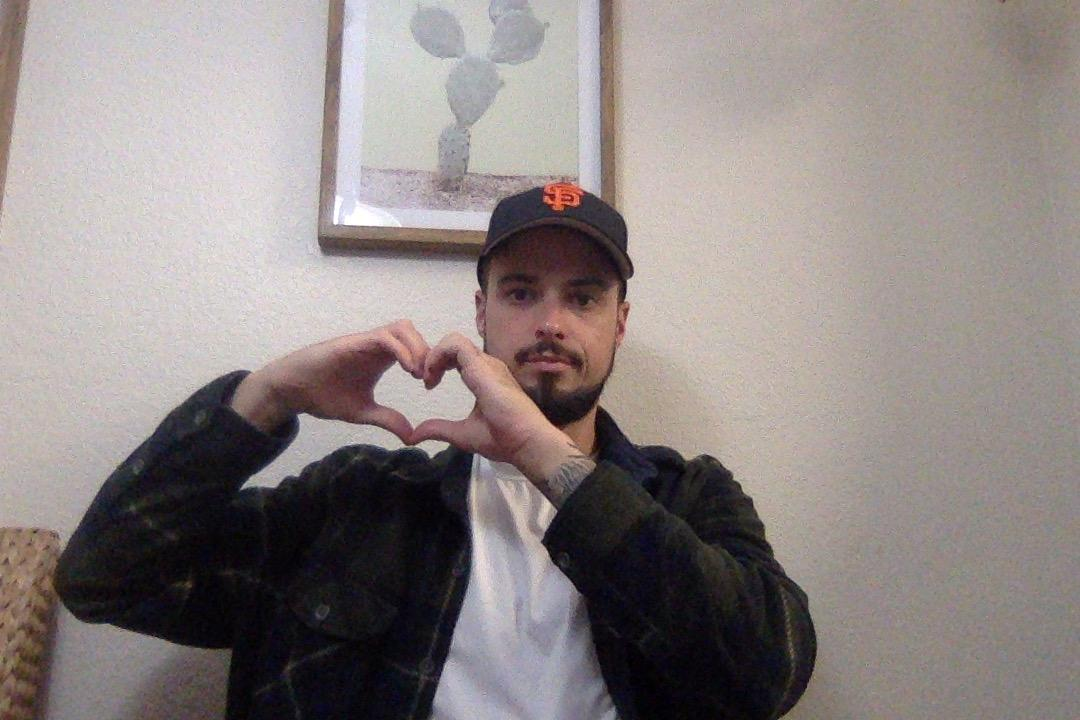Heart: (267, 315, 567, 459)
